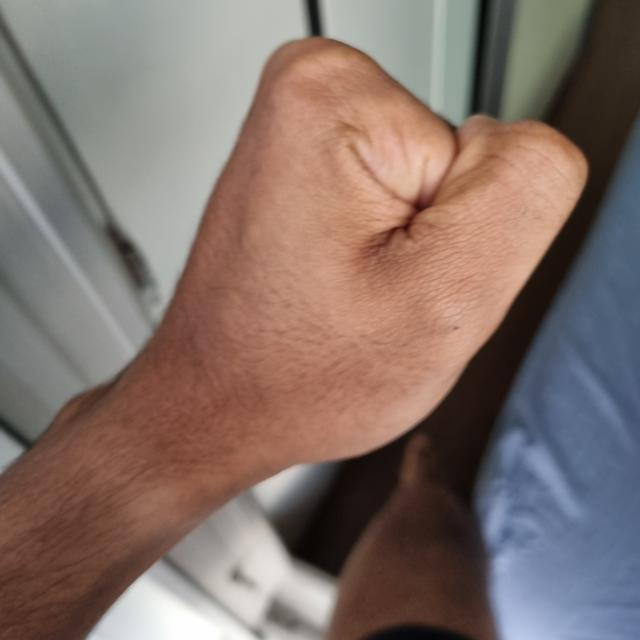Rock: (147, 36, 585, 462)
